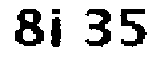3: (77, 5, 114, 52)
5: (119, 2, 153, 50)
8: (8, 4, 45, 52)
i: (47, 5, 67, 52)
